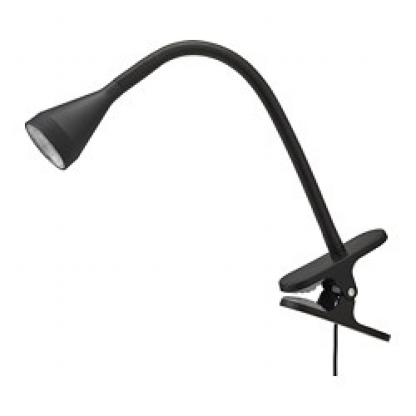Lamp: (17, 25, 398, 393)
